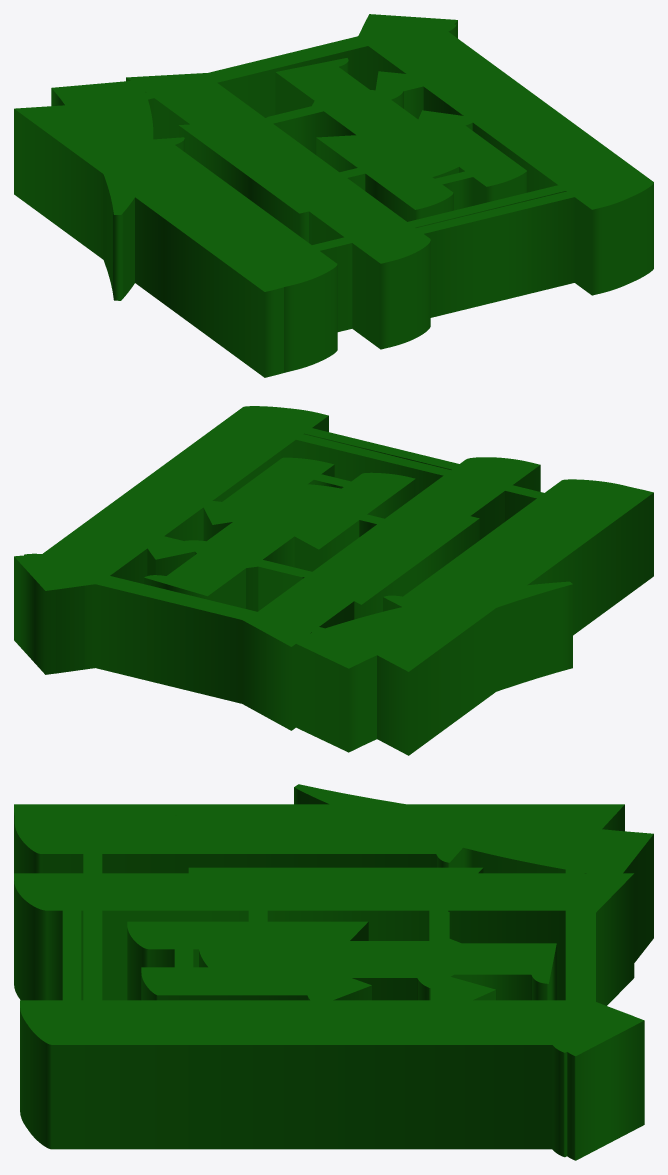
File: Tani.fbx
3 renders of one model, top to bottom at view 1: azimuth 30°, elevation 25°; view 2: azimuth 150°, elevation 25°; view 3: azimuth 270°, elevation 25°, orthographic. The views are drawn at different scales.
Visible parts, largest first — view 1: テキスト.001, テキスト.002, テキスト; view 2: テキスト.001, テキスト.002, テキスト; view 3: テキスト.001, テキスト.002, テキスト.
Part boxes in pixels (<box>): テキスト.001: <box>51,14,653,372</box>; テキスト.002: <box>14,18,649,377</box>; テキスト: <box>107,150,302,268</box>; テキスト.001: <box>14,406,633,752</box>; テキスト.002: <box>24,406,653,755</box>; テキスト: <box>421,496,612,611</box>; テキスト.001: <box>14,784,653,1160</box>; テキスト.002: <box>14,804,633,1157</box>; テキスト: <box>68,805,444,849</box>.
Bounding box in the file's own units: 33.51 × 6 × 33.3.
